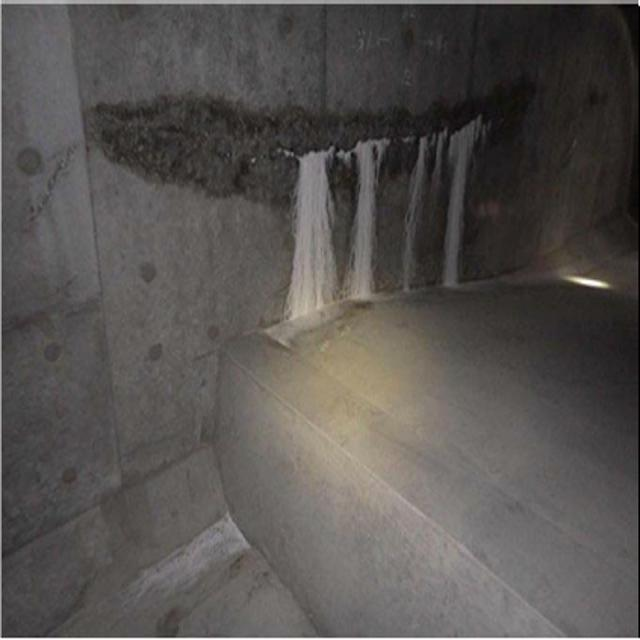freelime: (267, 121, 484, 330)
